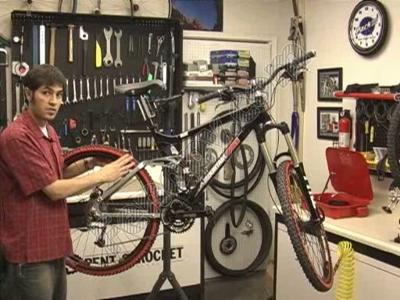person: (1, 63, 138, 300)
